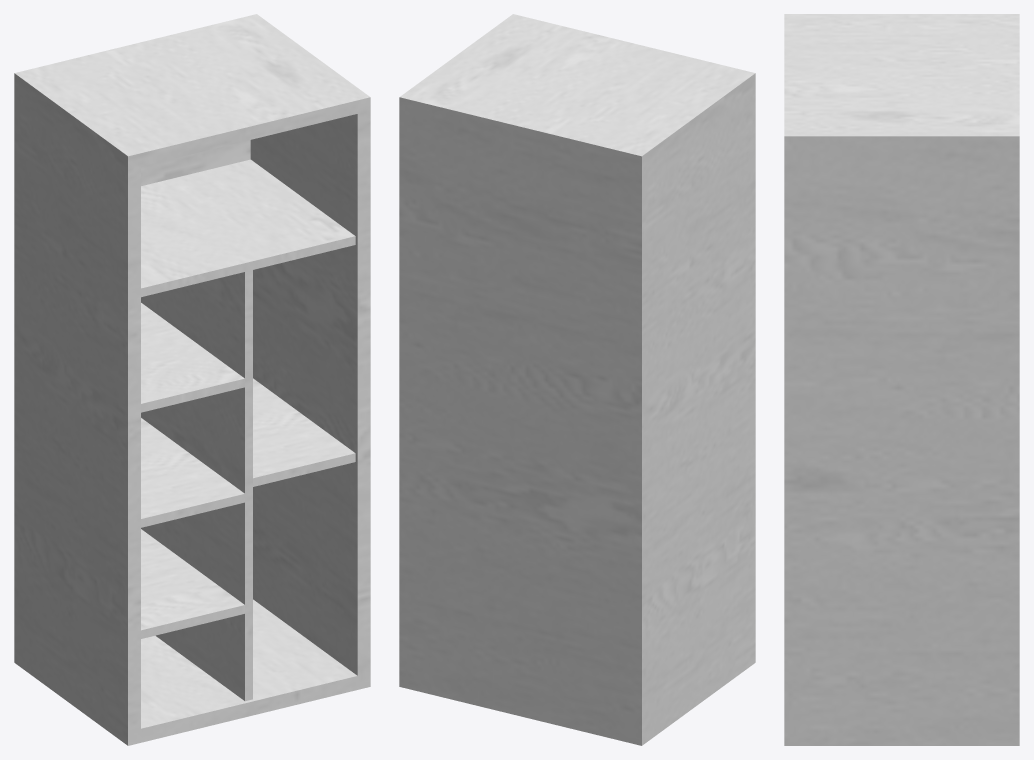
The model's file is Closet19.fbx.
3 renders of one model, left to right at view 1: azimuth 30°, elevation 25°; view 2: azimuth 150°, elevation 25°; view 3: azimuth 270°, elevation 25°, orthographic. The views are drawn at different scales.
Parts seen in each view (by area): view 1: Closet19; view 2: Closet19; view 3: Closet19.
Part boxes in pixels (left/top/right/bottom): Closet19: left=14, top=14, right=370, bottom=745; Closet19: left=399, top=14, right=755, bottom=745; Closet19: left=784, top=14, right=1019, bottom=745.
Size of the model in its own units: 109 by 254 by 88.93.
